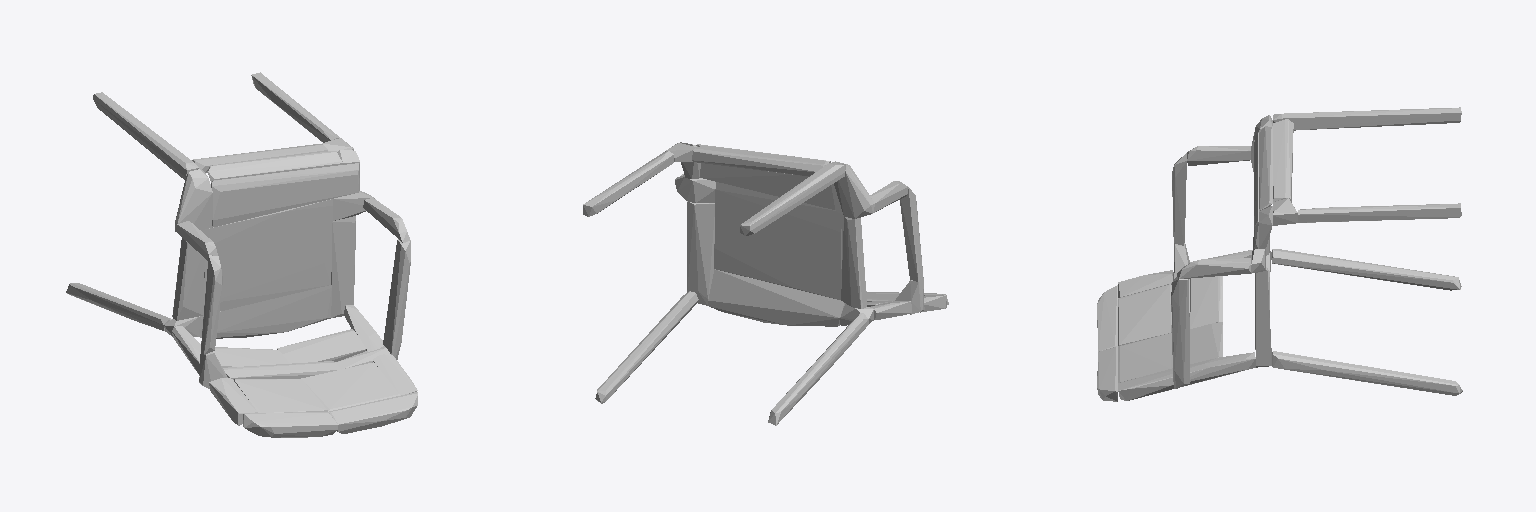
3 views of the same model, side by side, from view 1: azimuth 30°, elevation 25°; view 2: azimuth 150°, elevation 25°; view 3: azimuth 270°, elevation 25° (orthographic).
Visible parts, largest first — view 1: convex_22, convex_25, convex_27, convex_19, convex_18, convex_6, convex_23, convex_2, convex_7, convex_28, convex_21, convex_11 (+15 smaller); view 2: convex_22, convex_27, convex_23, convex_25, convex_3, convex_1, convex_0, convex_2, convex_21, convex_4, convex_8, convex_10 (+4 smaller); view 3: convex_1, convex_2, convex_0, convex_18, convex_4, convex_20, convex_19, convex_11, convex_31, convex_3, convex_23, convex_6 (+9 smaller).
Part boxes in pixels (x1,y1,x2,y2): convex_22: (203, 199, 332, 315); convex_25: (211, 163, 359, 227); convex_27: (199, 285, 331, 338); convex_19: (301, 362, 399, 411); convex_18: (234, 379, 327, 412); convex_6: (243, 412, 337, 437); convex_23: (331, 216, 355, 317); convex_2: (93, 92, 198, 179); convex_7: (329, 392, 417, 433); convex_28: (207, 151, 342, 182); convex_21: (172, 230, 204, 320); convex_11: (383, 239, 410, 359); convex_22: (714, 182, 841, 299); convex_27: (708, 269, 844, 326); convex_23: (687, 201, 714, 305); convex_25: (700, 163, 834, 209); convex_3: (692, 145, 828, 176); convex_1: (595, 291, 698, 403); convex_0: (768, 313, 868, 425); convex_2: (740, 162, 844, 235); convex_21: (841, 216, 866, 308); convex_4: (583, 151, 673, 216); convex_8: (831, 161, 874, 218); convex_10: (900, 187, 923, 281); convex_1: (1272, 351, 1462, 395); convex_2: (1273, 107, 1461, 130); convex_0: (1272, 249, 1461, 290); convex_18: (1118, 284, 1171, 345); convex_4: (1298, 203, 1461, 222); convex_20: (1118, 352, 1255, 400); convex_19: (1118, 333, 1172, 382); convex_11: (1171, 277, 1189, 388); convex_31: (1190, 276, 1222, 328); convex_3: (1273, 119, 1293, 202); convex_23: (1255, 267, 1271, 367); convex_6: (1097, 285, 1117, 351).
Size of the model in its own units: 0.5502 by 0.5645 by 0.8241.